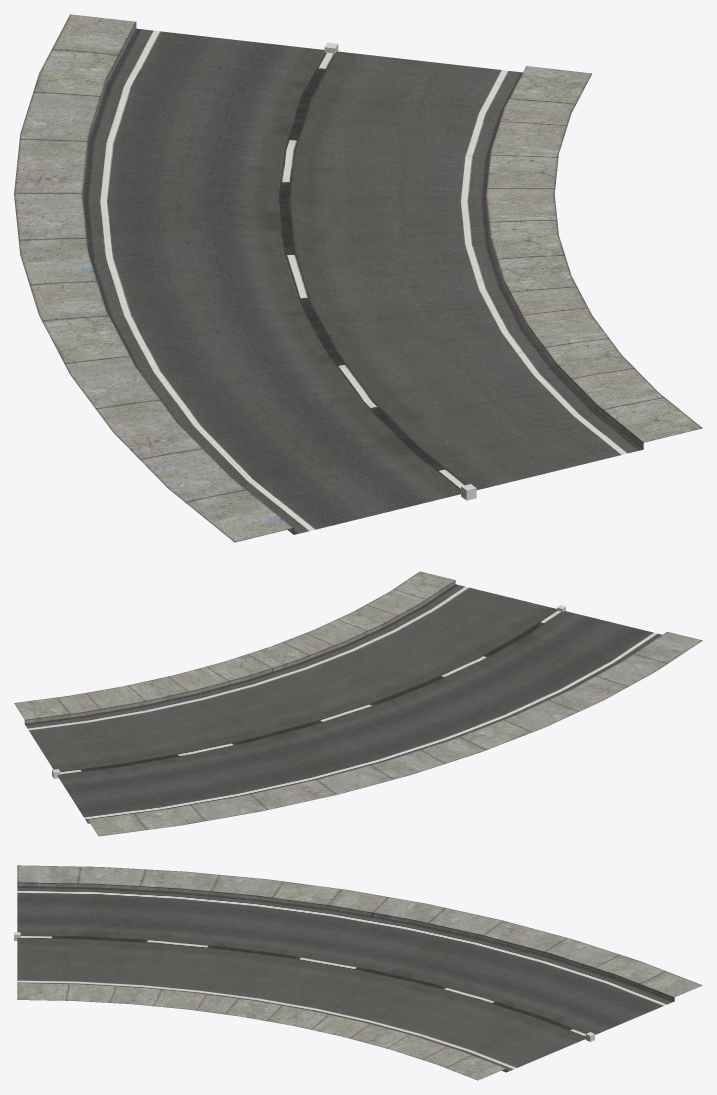
File: roadBend45.R.fbx
3 views of the same model, one above another, from view 1: azimuth 30°, elevation 25°; view 2: azimuth 150°, elevation 25°; view 3: azimuth 270°, elevation 25° (orthographic). The views are drawn at different scales.
Visible parts, largest first — view 1: MESH roadBend45.R; view 2: MESH roadBend45.R; view 3: MESH roadBend45.R.
Boxes of the visible parts, box(x1,y1,x2,y2) form: MESH roadBend45.R: box(14, 14, 702, 542); MESH roadBend45.R: box(14, 571, 702, 836); MESH roadBend45.R: box(17, 865, 702, 1080).
Size of what is drawn, in the model's own units: 3839 by 58.34 by 5195.
